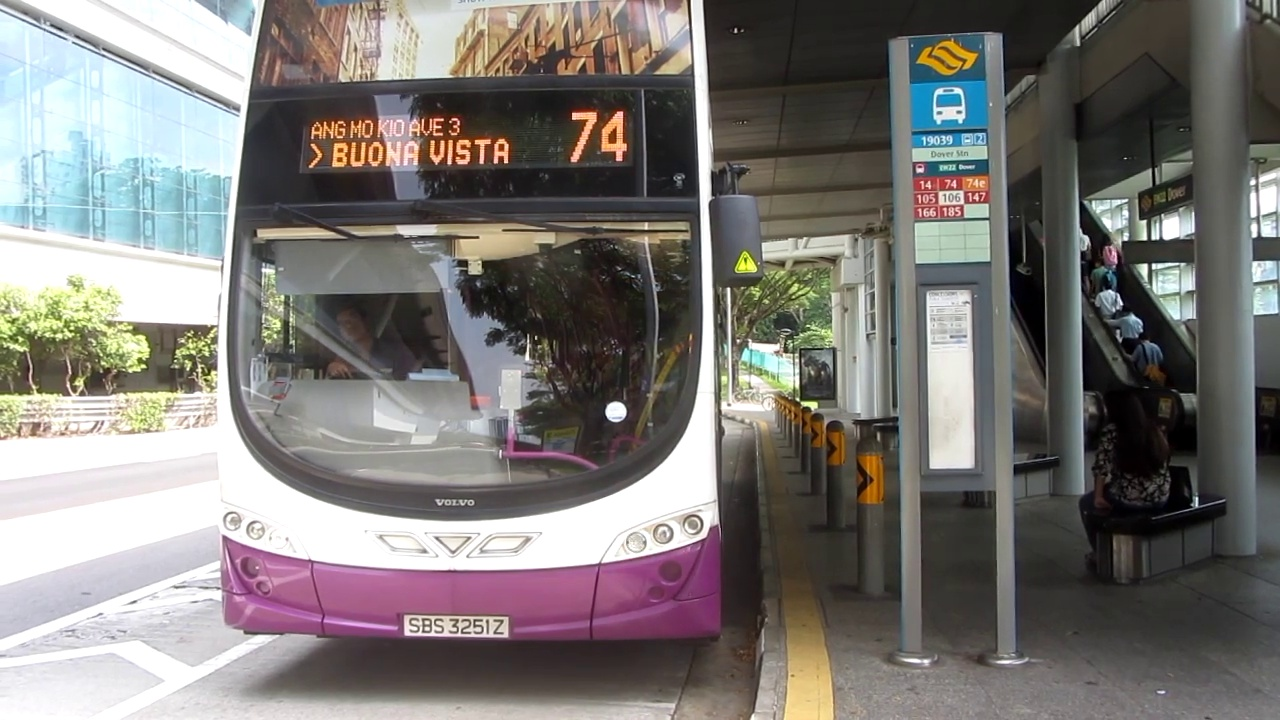bus panel: (297, 106, 638, 177)
